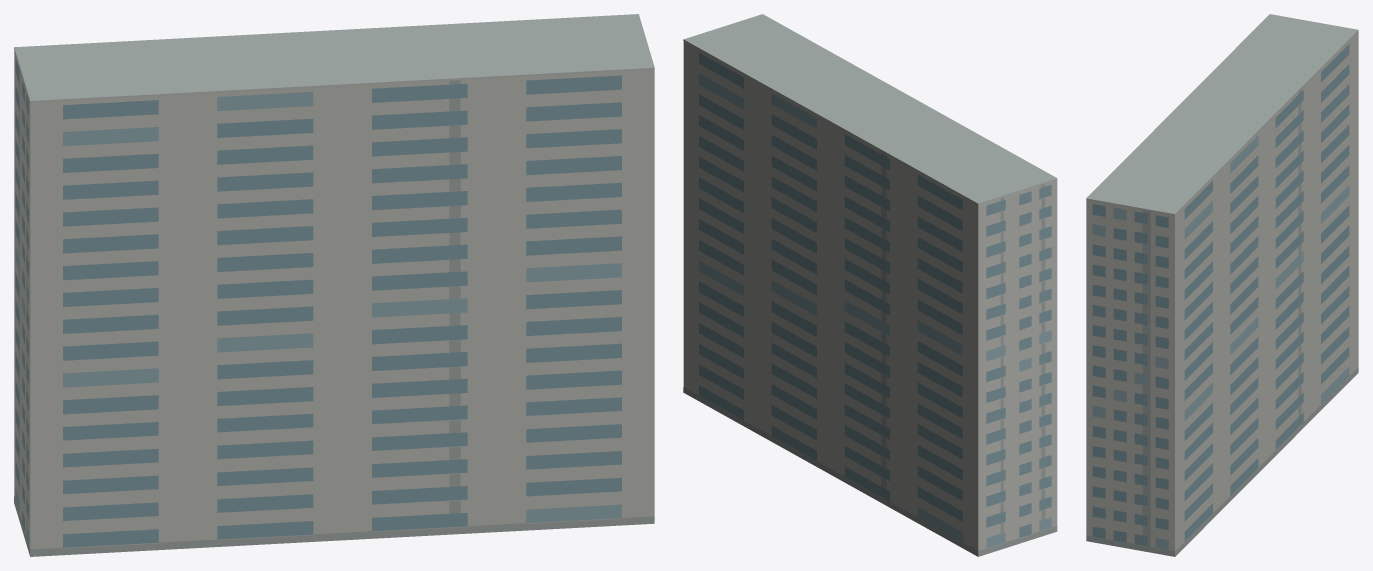
Rendered from residential-81a18501-aa08-4371-ae14-90cd0db91868.glb.
3 renders of one model, left to right at view 1: azimuth 30°, elevation 25°; view 2: azimuth 150°, elevation 25°; view 3: azimuth 270°, elevation 25°, orthographic. The views are drawn at different scales.
Parts seen in each view (by area): view 1: residential-81a18501-aa08-4371-ae14-90cd0db91868.tmp; view 2: residential-81a18501-aa08-4371-ae14-90cd0db91868.tmp; view 3: residential-81a18501-aa08-4371-ae14-90cd0db91868.tmp.
Boxes of the visible parts, x1,y1,x2,y2 form: residential-81a18501-aa08-4371-ae14-90cd0db91868.tmp: [14, 14, 654, 556]; residential-81a18501-aa08-4371-ae14-90cd0db91868.tmp: [683, 14, 1057, 556]; residential-81a18501-aa08-4371-ae14-90cd0db91868.tmp: [1086, 14, 1358, 556].
Size of the model in its own units: 64.94 by 51.85 by 37.37.
